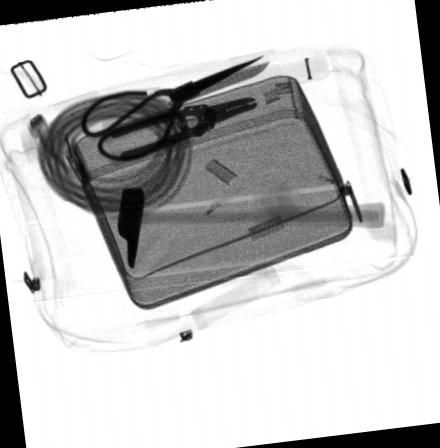Hammer: (116, 187, 386, 270)
Knife: (98, 59, 270, 133)
Pliers: (109, 97, 257, 164)
Scissors: (81, 56, 263, 163)
